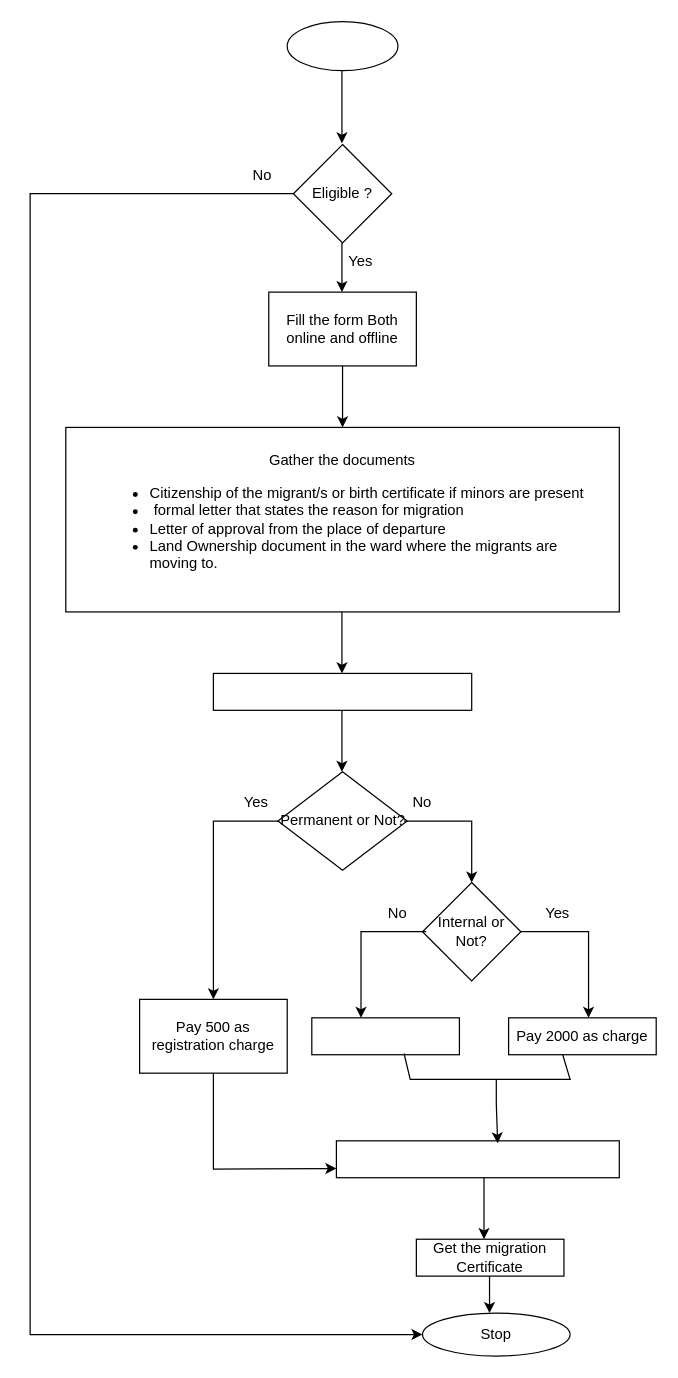
Image size: 678x1378. Some labels were removed from this diagram. Here are the shapes that lost their labels. From the top down, the box of each, then its label:
(286, 20, 398, 71): Start
(212, 672, 472, 710): Go to Ward Office
(311, 1017, 459, 1055): pay 3000 as charge
(335, 1140, 619, 1178): Submit the application
